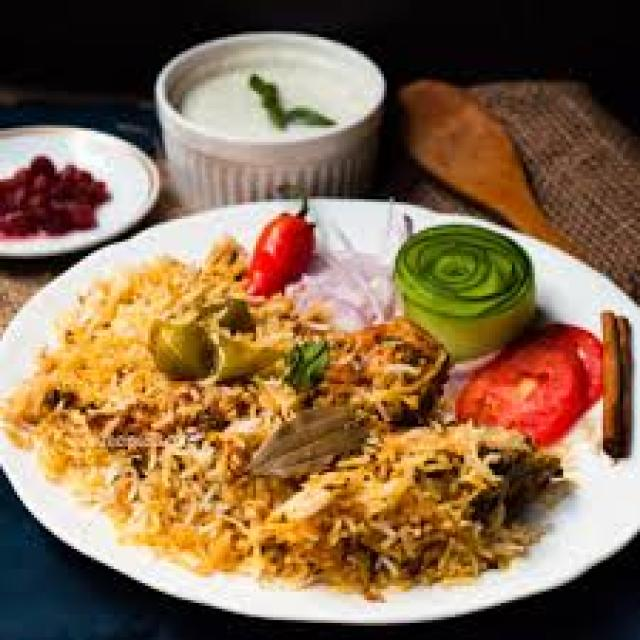Wet Waste: (14, 232, 572, 593)
